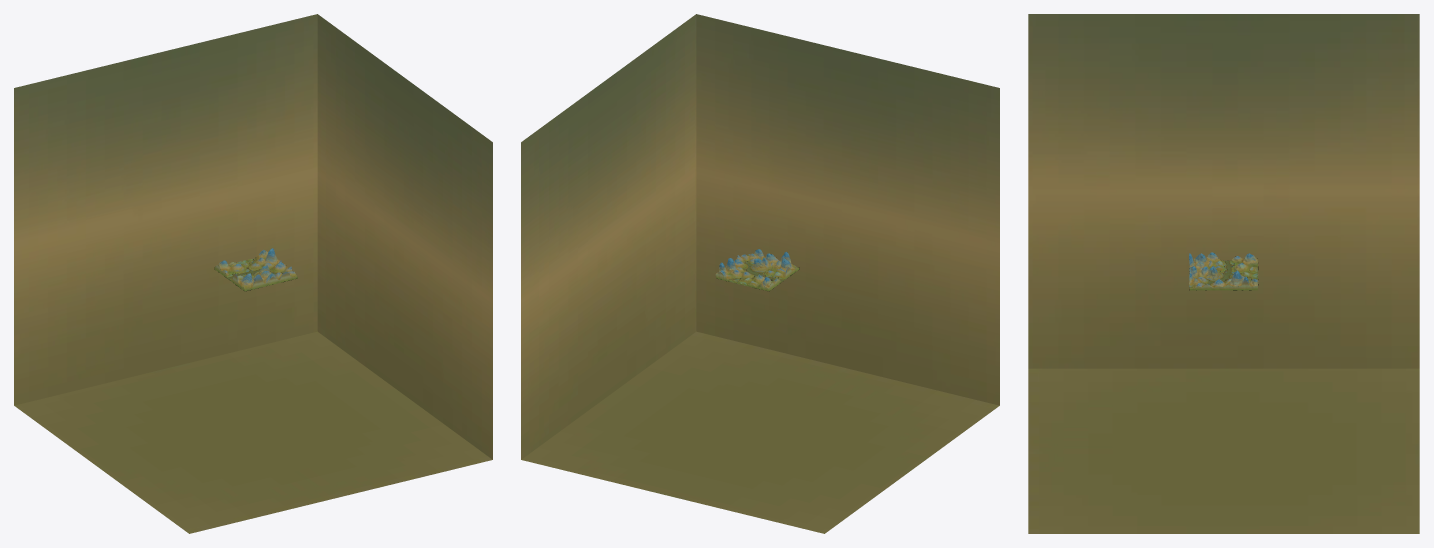
The model's file is landa.glb.
3 renders of one model, left to right at view 1: azimuth 30°, elevation 25°; view 2: azimuth 150°, elevation 25°; view 3: azimuth 270°, elevation 25°, orthographic. The views are drawn at different scales.
Visible parts, largest first — view 1: MainMeshBounds_SmallObjectsOpaque_0, MainMesh_Material_0; view 2: MainMeshBounds_SmallObjectsOpaque_0, MainMesh_Material_0; view 3: MainMeshBounds_SmallObjectsOpaque_0, MainMesh_Material_0.
Boxes of the visible parts, bbox=[...] form: MainMeshBounds_SmallObjectsOpaque_0: bbox=[14, 14, 492, 533]; MainMesh_Material_0: bbox=[215, 248, 297, 290]; MainMeshBounds_SmallObjectsOpaque_0: bbox=[521, 14, 999, 533]; MainMesh_Material_0: bbox=[716, 249, 798, 288]; MainMeshBounds_SmallObjectsOpaque_0: bbox=[1028, 14, 1419, 533]; MainMesh_Material_0: bbox=[1189, 252, 1257, 288].
Size of the model in its own units: 20.22 by 20.22 by 20.22.
4 materials, 3 textured.
